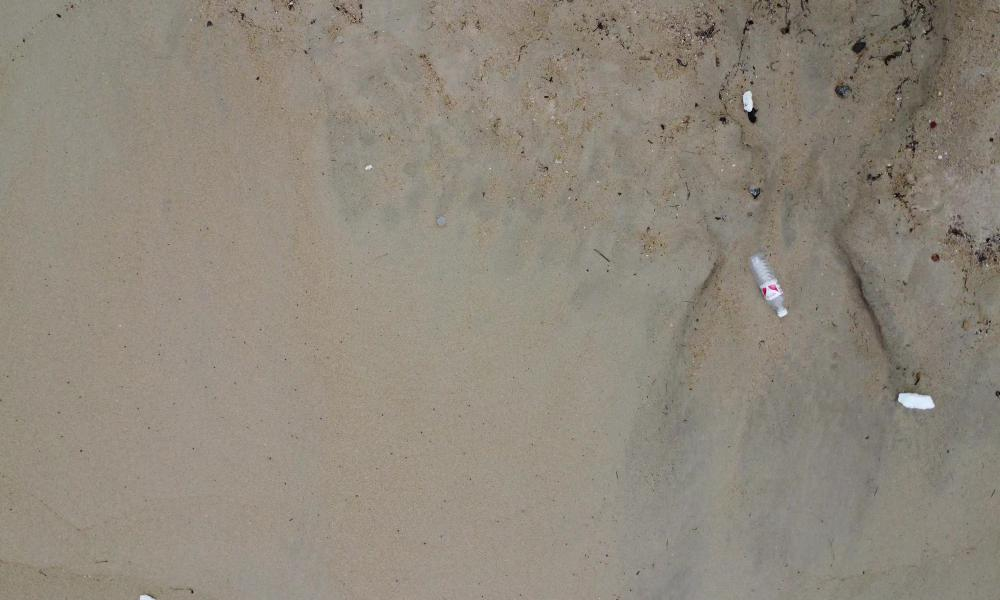plastic bottle: (742, 243, 797, 321)
styrofoam: (889, 383, 940, 414), (736, 88, 764, 122)
